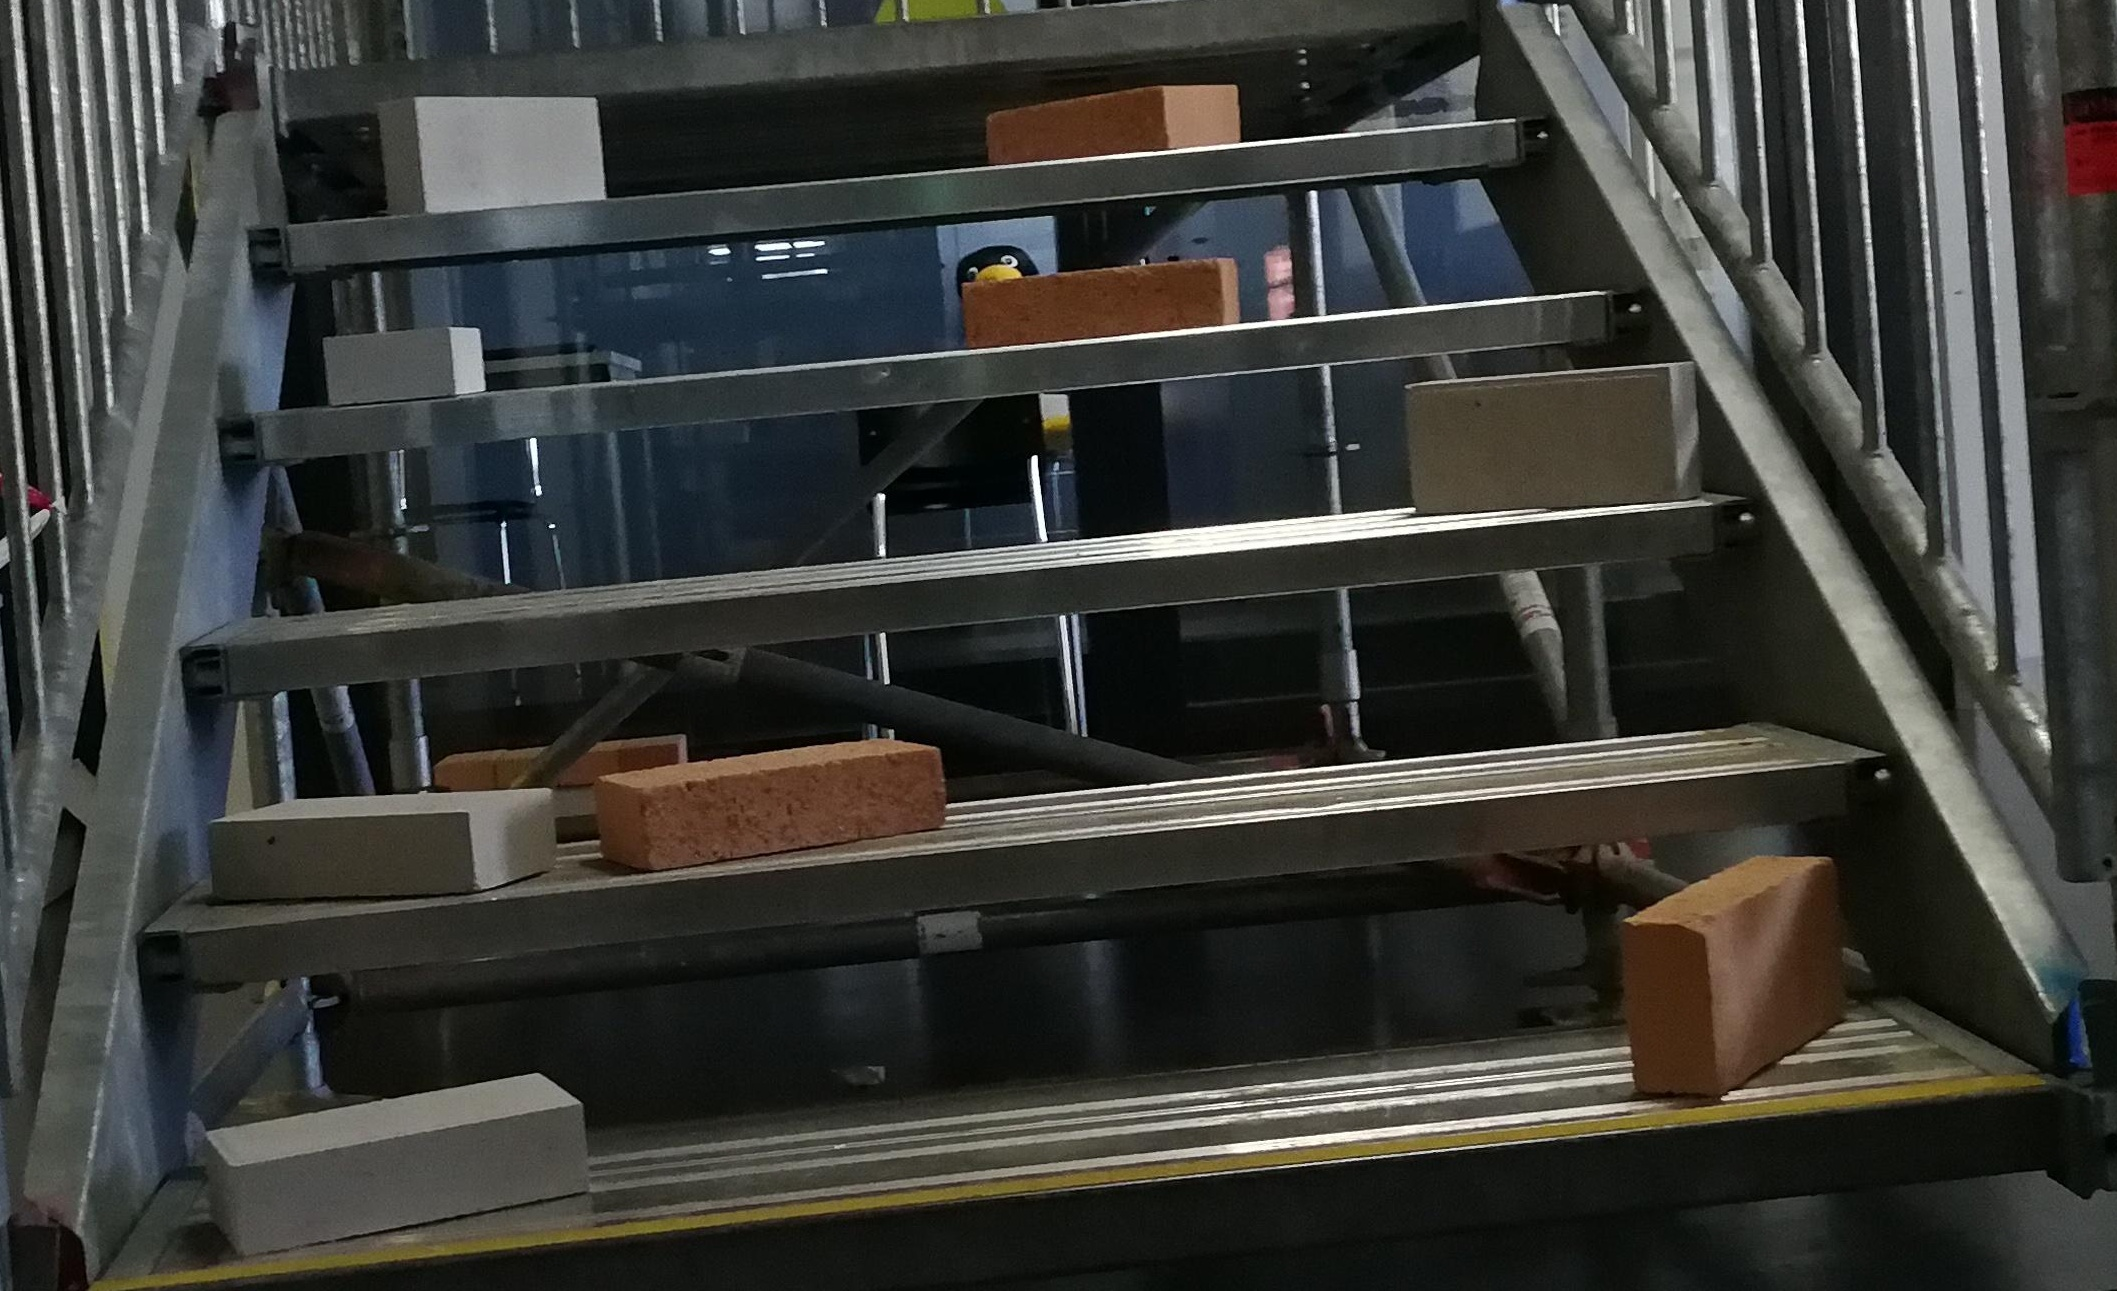brick: (204, 1075, 581, 1252), (1624, 856, 1842, 1099), (596, 738, 938, 872), (1406, 361, 1698, 509), (206, 794, 547, 886), (383, 94, 605, 212), (962, 257, 1237, 348), (987, 85, 1237, 162), (321, 322, 481, 398)
edge: (144, 760, 1883, 975), (85, 1082, 2050, 1271), (191, 499, 1756, 698), (227, 295, 1607, 475), (268, 122, 1536, 280)
